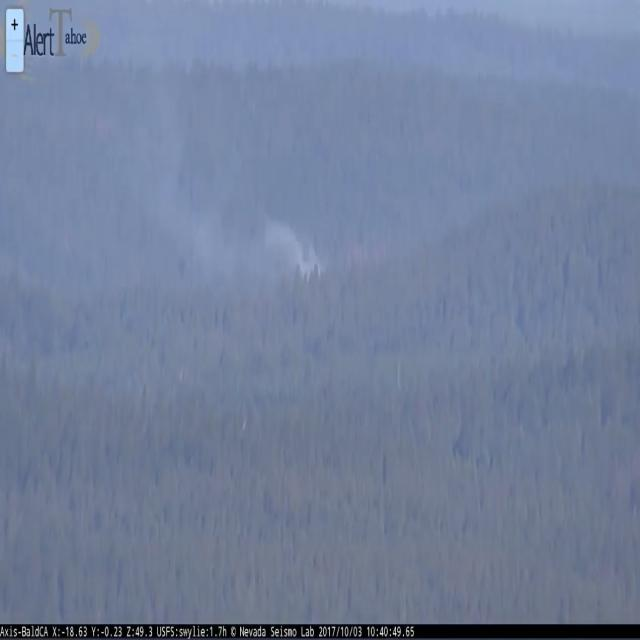smoke: (263, 219, 323, 273)
